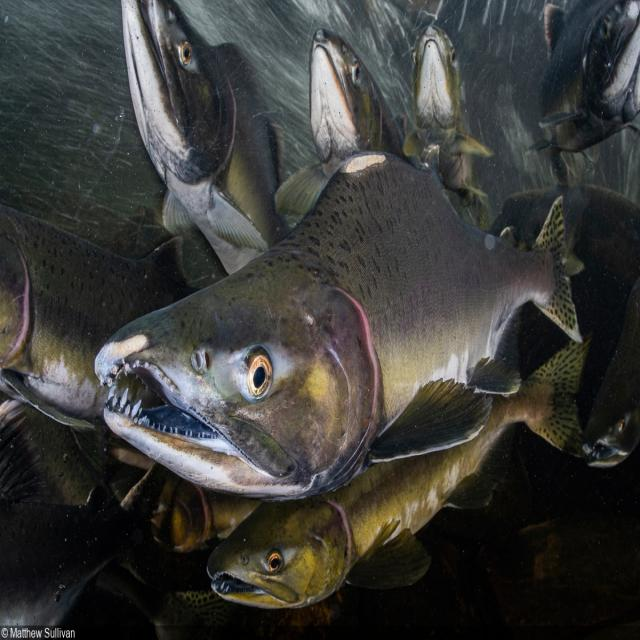salmon: (92, 137, 587, 482), (199, 346, 596, 625)
